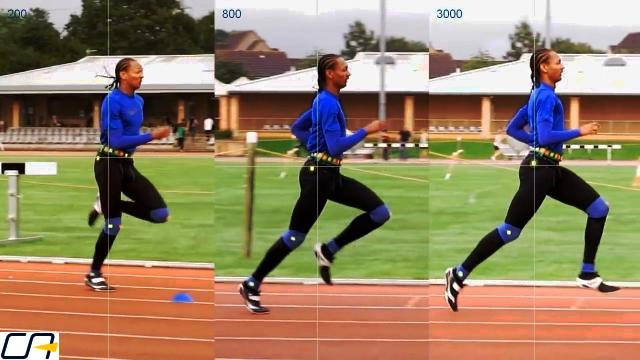berlari: (438, 34, 626, 322), (228, 44, 394, 318), (73, 44, 184, 294)
